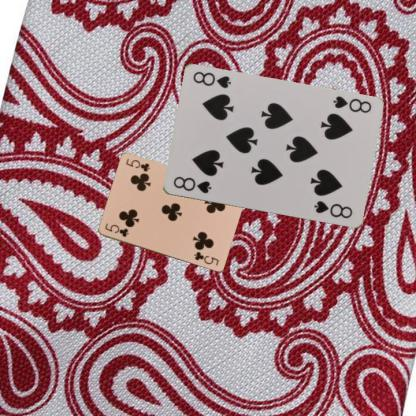5c: (102, 221, 130, 238)
8s: (330, 94, 373, 115), (170, 174, 212, 195)
